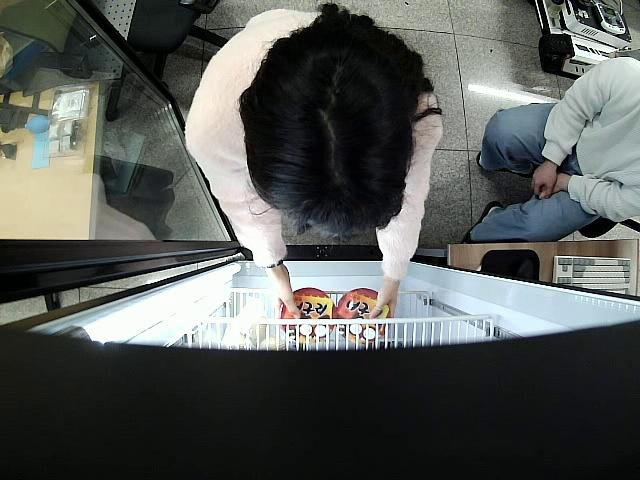00_hand: (271, 263, 301, 321), (369, 281, 398, 323)
05_nuguri_L: (281, 287, 335, 343), (339, 287, 391, 341)
